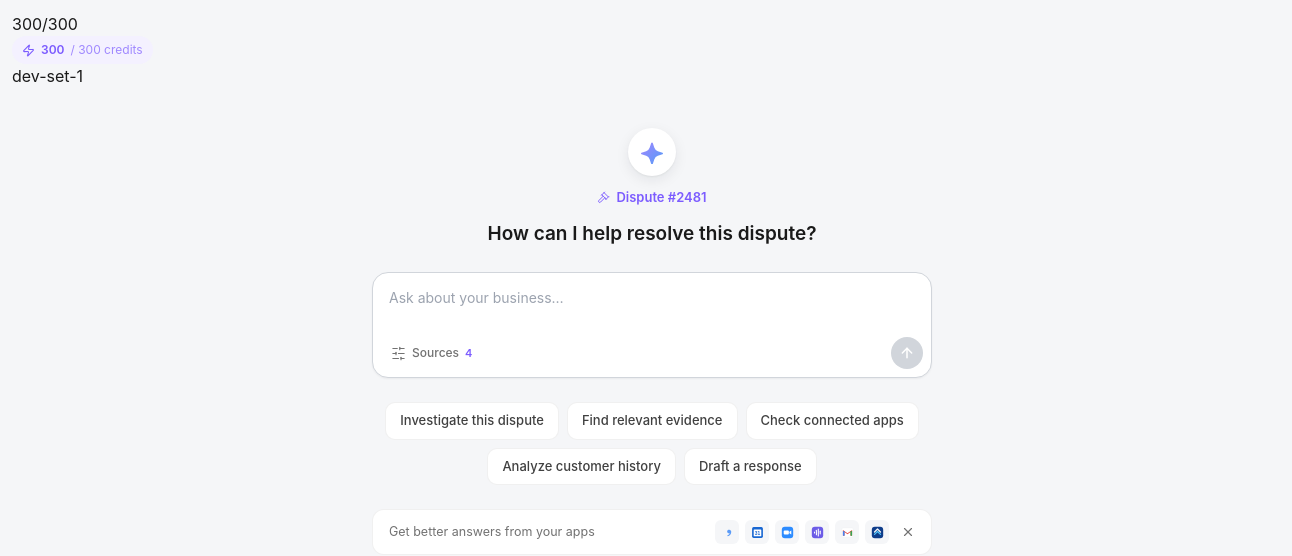
Test: chat credit system › G. investigation credit usage — the demo-configurable tiered model (src/lib/mockData.ts's CREDIT_COSTS) › checking 2+ sources without a full investigation report costs the multi-source tier (3 credits)
Click the button "Investigate this dispute" at x=472, y=421, box [385,402,559,440]
Wait 3000 ms
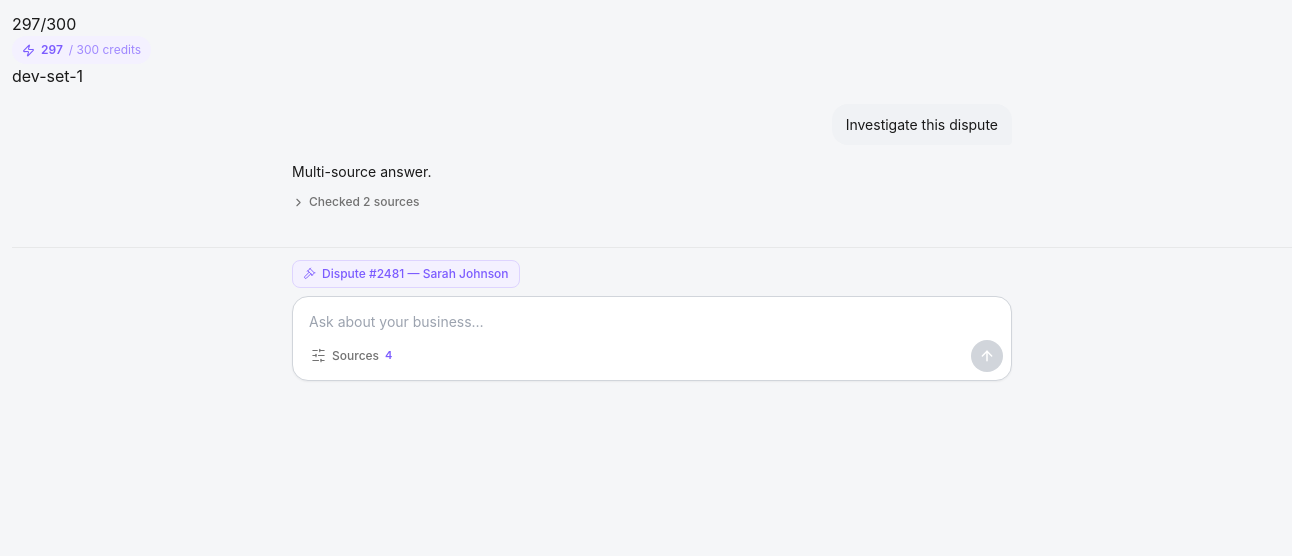
Expected: the text "Multi-source answer." is shown, [292,163,432,180]
Expected: the text with test id "credits-readout" reads "297/300", [12,14,76,34]
